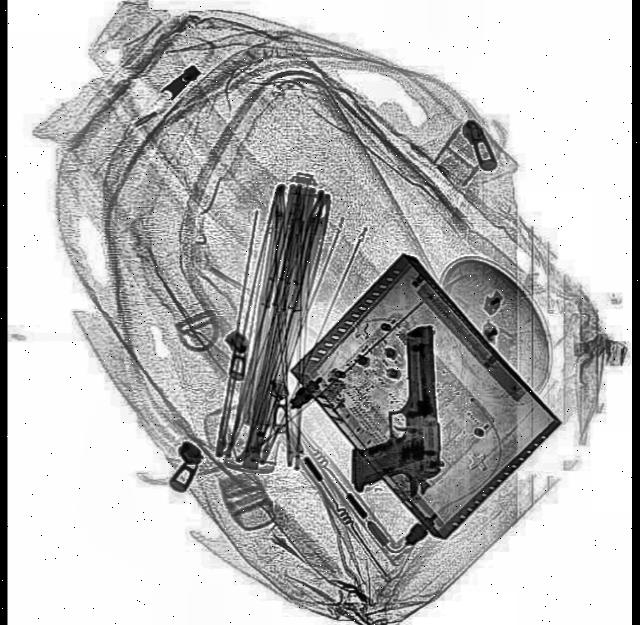Gun: (344, 326, 441, 504)
